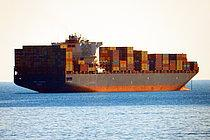Ship: (12, 34, 202, 95)
